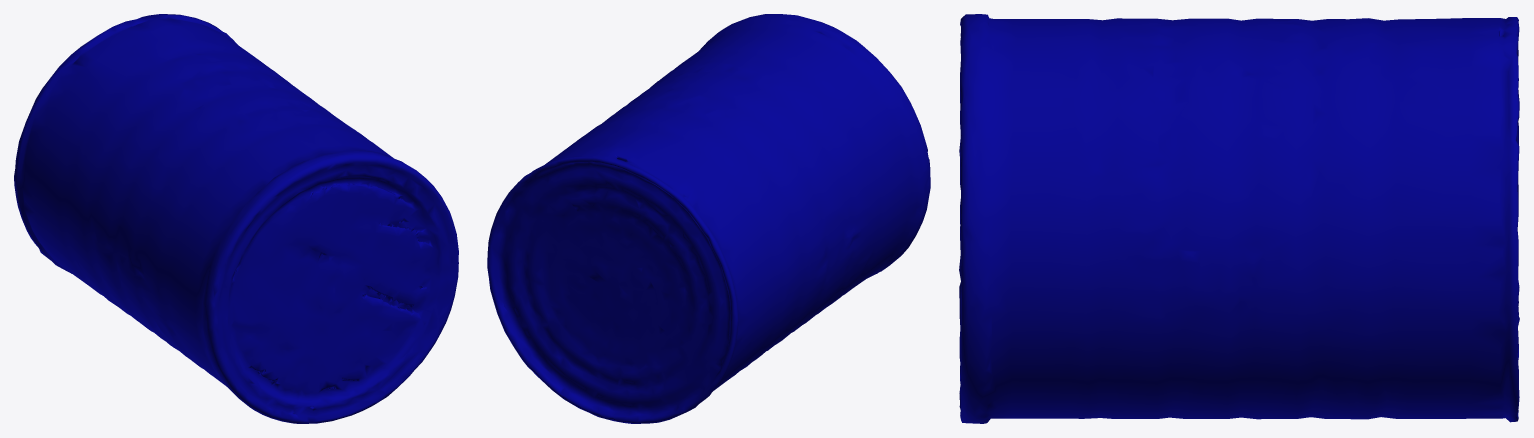
3 views of the same model, side by side, from view 1: azimuth 30°, elevation 25°; view 2: azimuth 150°, elevation 25°; view 3: azimuth 270°, elevation 25° (orthographic). The views are drawn at different scales.
Size of the model in its own units: 0.1025 by 0.1024 by 0.1402.
